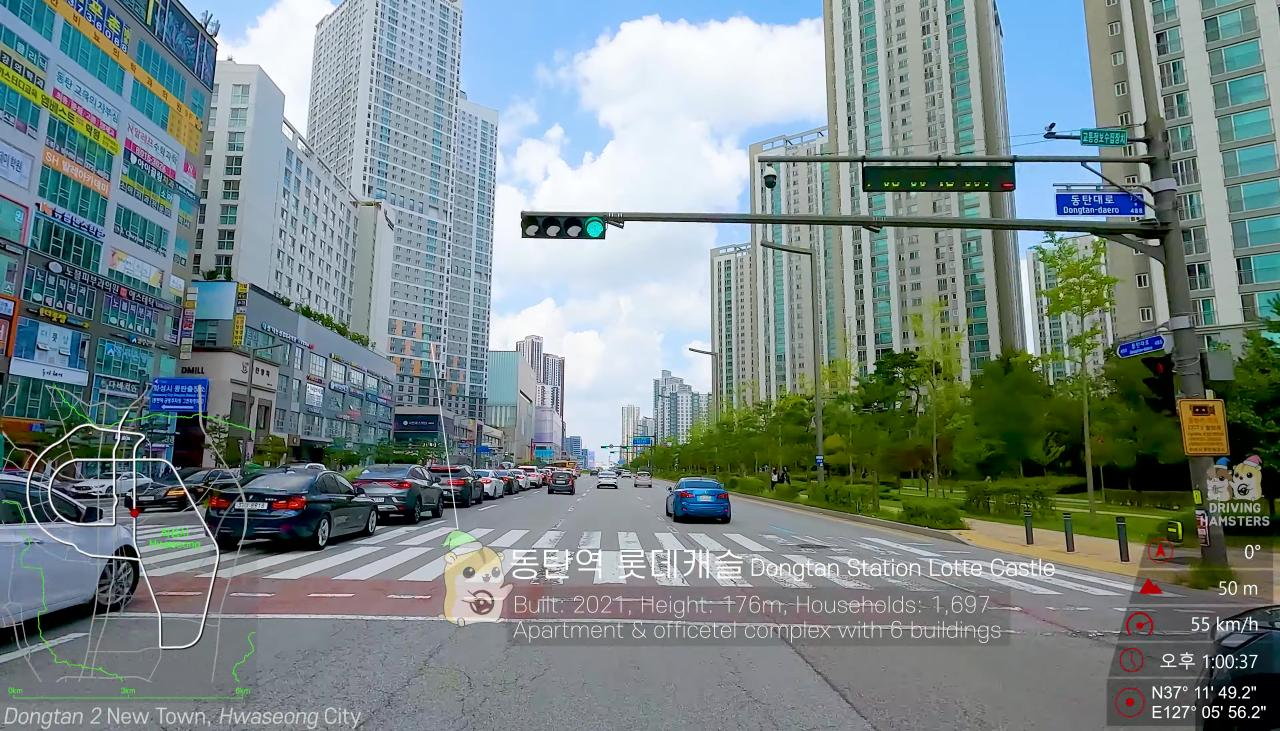Green Light: (584, 215, 606, 240)
